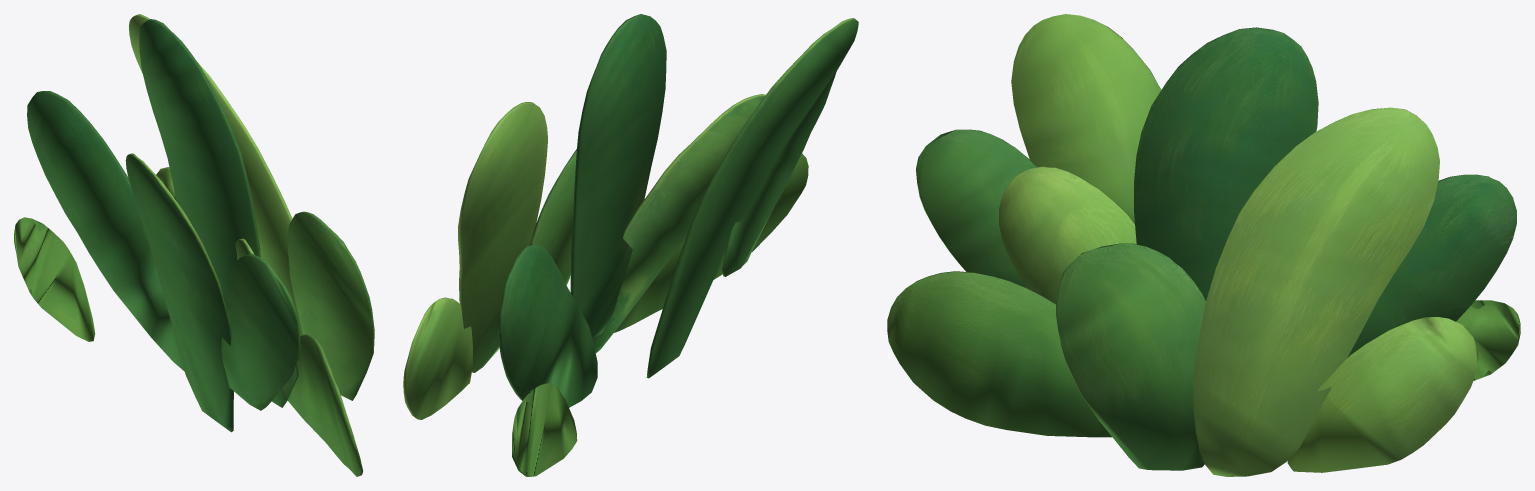
File: lush_shrub.glb
3 views of the same model, side by side, from view 1: azimuth 30°, elevation 25°; view 2: azimuth 150°, elevation 25°; view 3: azimuth 270°, elevation 25° (orthographic). The views are drawn at different scales.
Visible parts, largest first — view 1: tripo_node_b6ebca9f-aeb6-49b6-8e24-bfff85225298; view 2: tripo_node_b6ebca9f-aeb6-49b6-8e24-bfff85225298; view 3: tripo_node_b6ebca9f-aeb6-49b6-8e24-bfff85225298.
Boxes of the visible parts, <box> form: tripo_node_b6ebca9f-aeb6-49b6-8e24-bfff85225298: <box>14,14,374,476</box>; tripo_node_b6ebca9f-aeb6-49b6-8e24-bfff85225298: <box>403,14,858,476</box>; tripo_node_b6ebca9f-aeb6-49b6-8e24-bfff85225298: <box>887,14,1520,476</box>.
Bounding box in the file's own units: 0.4824 × 0.6582 × 0.998.
Materials: 1 (1 with a texture image).
